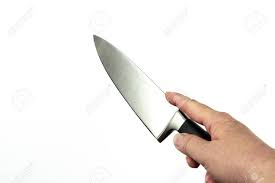weapon-unusual: (88, 31, 226, 166)
